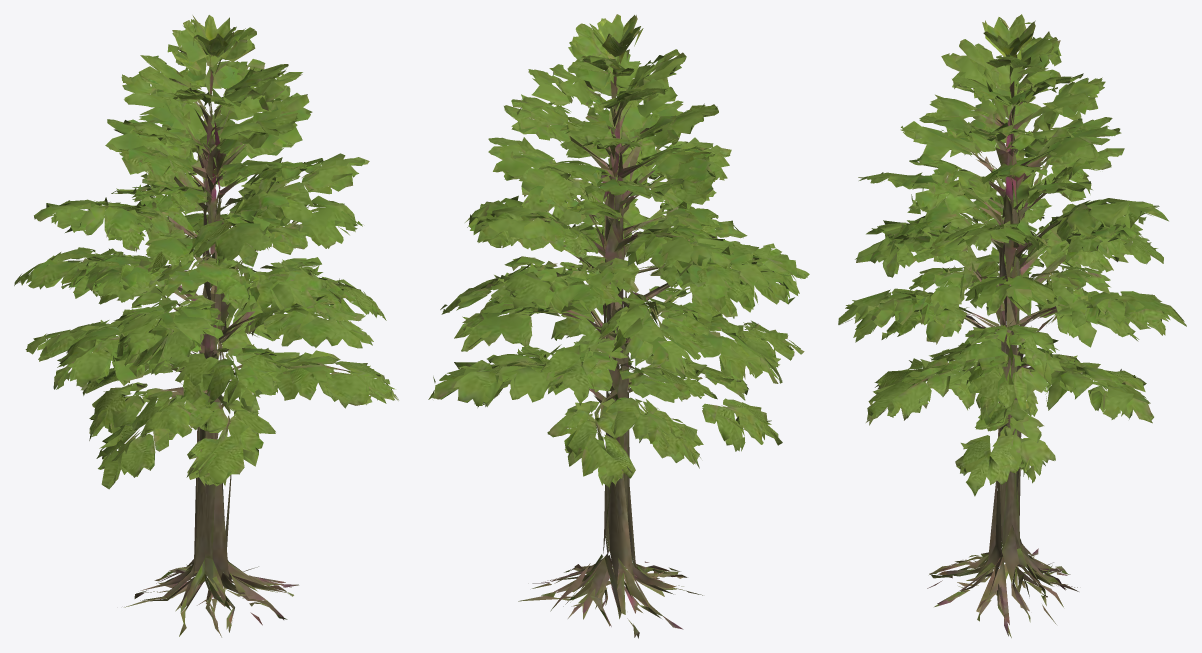
Rendered from archaeopteris.glb.
3 views of the same model, side by side, from view 1: azimuth 30°, elevation 25°; view 2: azimuth 150°, elevation 25°; view 3: azimuth 270°, elevation 25° (orthographic). The views are drawn at different scales.
Visible parts, largest first — view 1: Mesh_0; view 2: Mesh_0; view 3: Mesh_0.
Part boxes in pixels (bbox=[...]): Mesh_0: bbox=[14, 15, 398, 637]; Mesh_0: bbox=[428, 14, 809, 638]; Mesh_0: bbox=[838, 14, 1186, 637].
Size of the model in its own units: 0.587 by 1.01 by 0.5534.
Materials: 1 (1 with a texture image).
